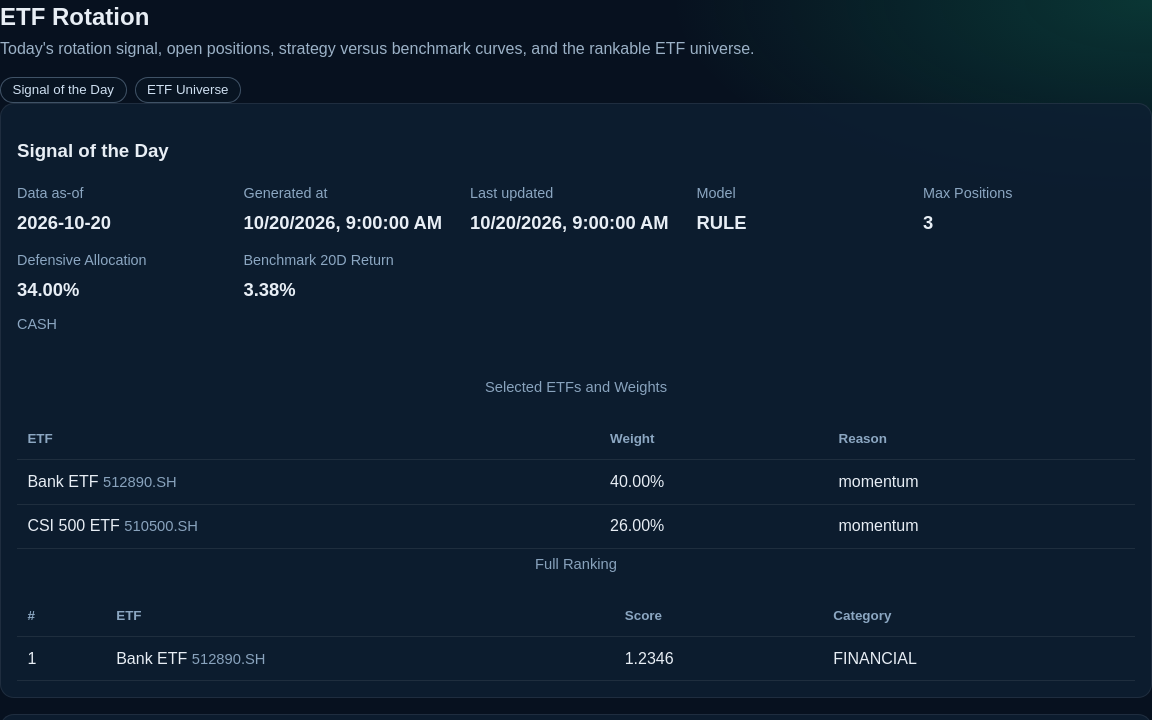
Test case: EtfRotationPage › switches to the universe tab and asks the server for rankable rows only
Click the button "ETF Universe": (188, 90) [134, 77, 241, 103]
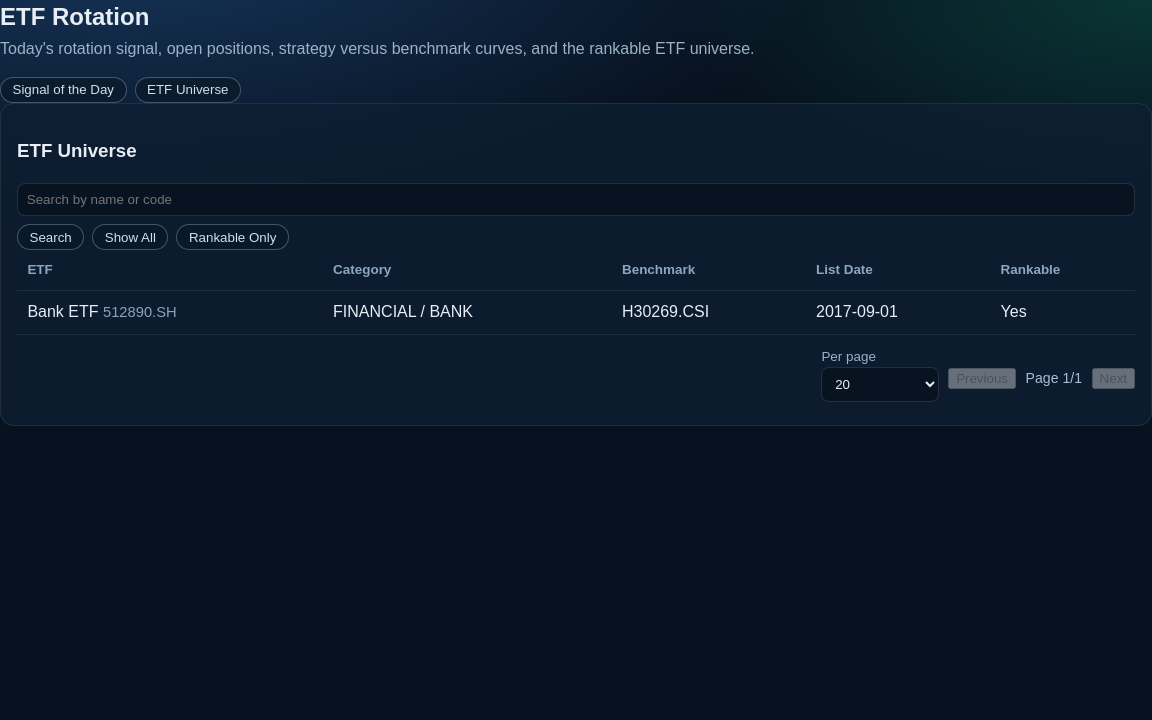
Expected: the text "H30269.CSI" is shown, [612, 290, 806, 335]
Expected: the text "Yes" is shown, [990, 290, 1135, 335]
Expected: the text "Selected ETFs and Weights" is gone
